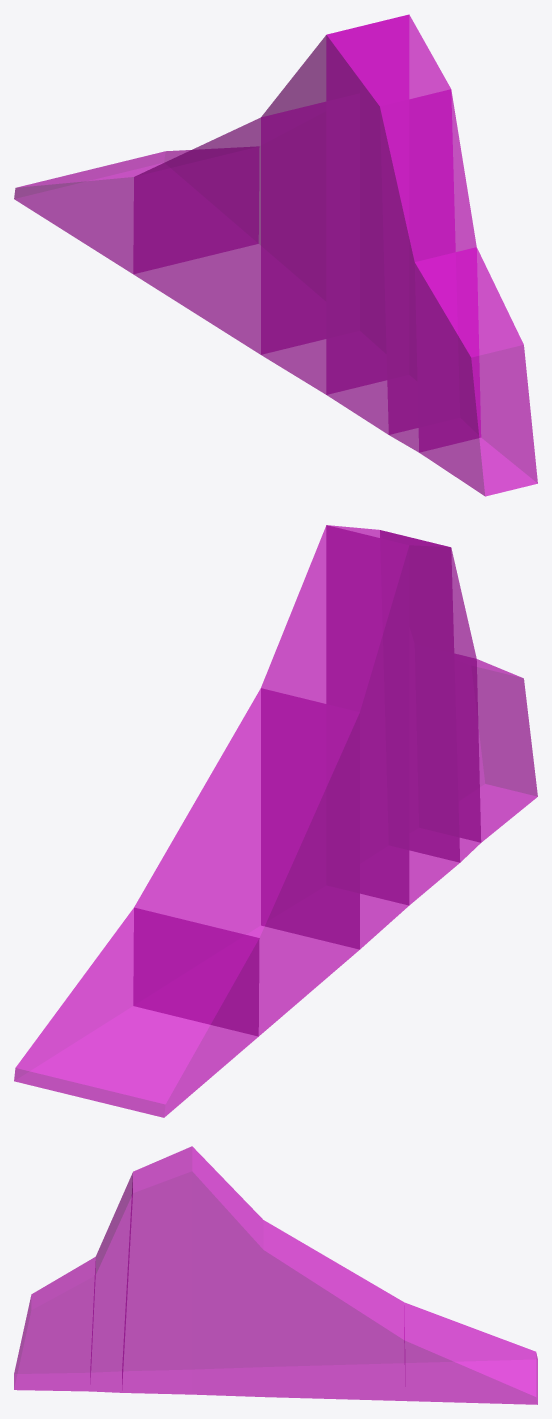
File: SM_Veh_Ship_L_Ram_03_Collision.fbx
The picture shows the model from 3 angles, top to bottom: view 1: azimuth 30°, elevation 25°; view 2: azimuth 150°, elevation 25°; view 3: azimuth 270°, elevation 25°; orthographic projection. The views are drawn at different scales.
Parts seen in each view (by area): view 1: SM_Veh_Ship_L_Ram_03_Collision; view 2: SM_Veh_Ship_L_Ram_03_Collision; view 3: SM_Veh_Ship_L_Ram_03_Collision.
Part boxes in pixels (x1=…): SM_Veh_Ship_L_Ram_03_Collision: x1=14, y1=14, x2=537, y2=496; SM_Veh_Ship_L_Ram_03_Collision: x1=14, y1=525, x2=537, y2=1117; SM_Veh_Ship_L_Ram_03_Collision: x1=14, y1=1146, x2=537, y2=1404.
Bounding box in the file's own units: 203 × 466 × 991.
